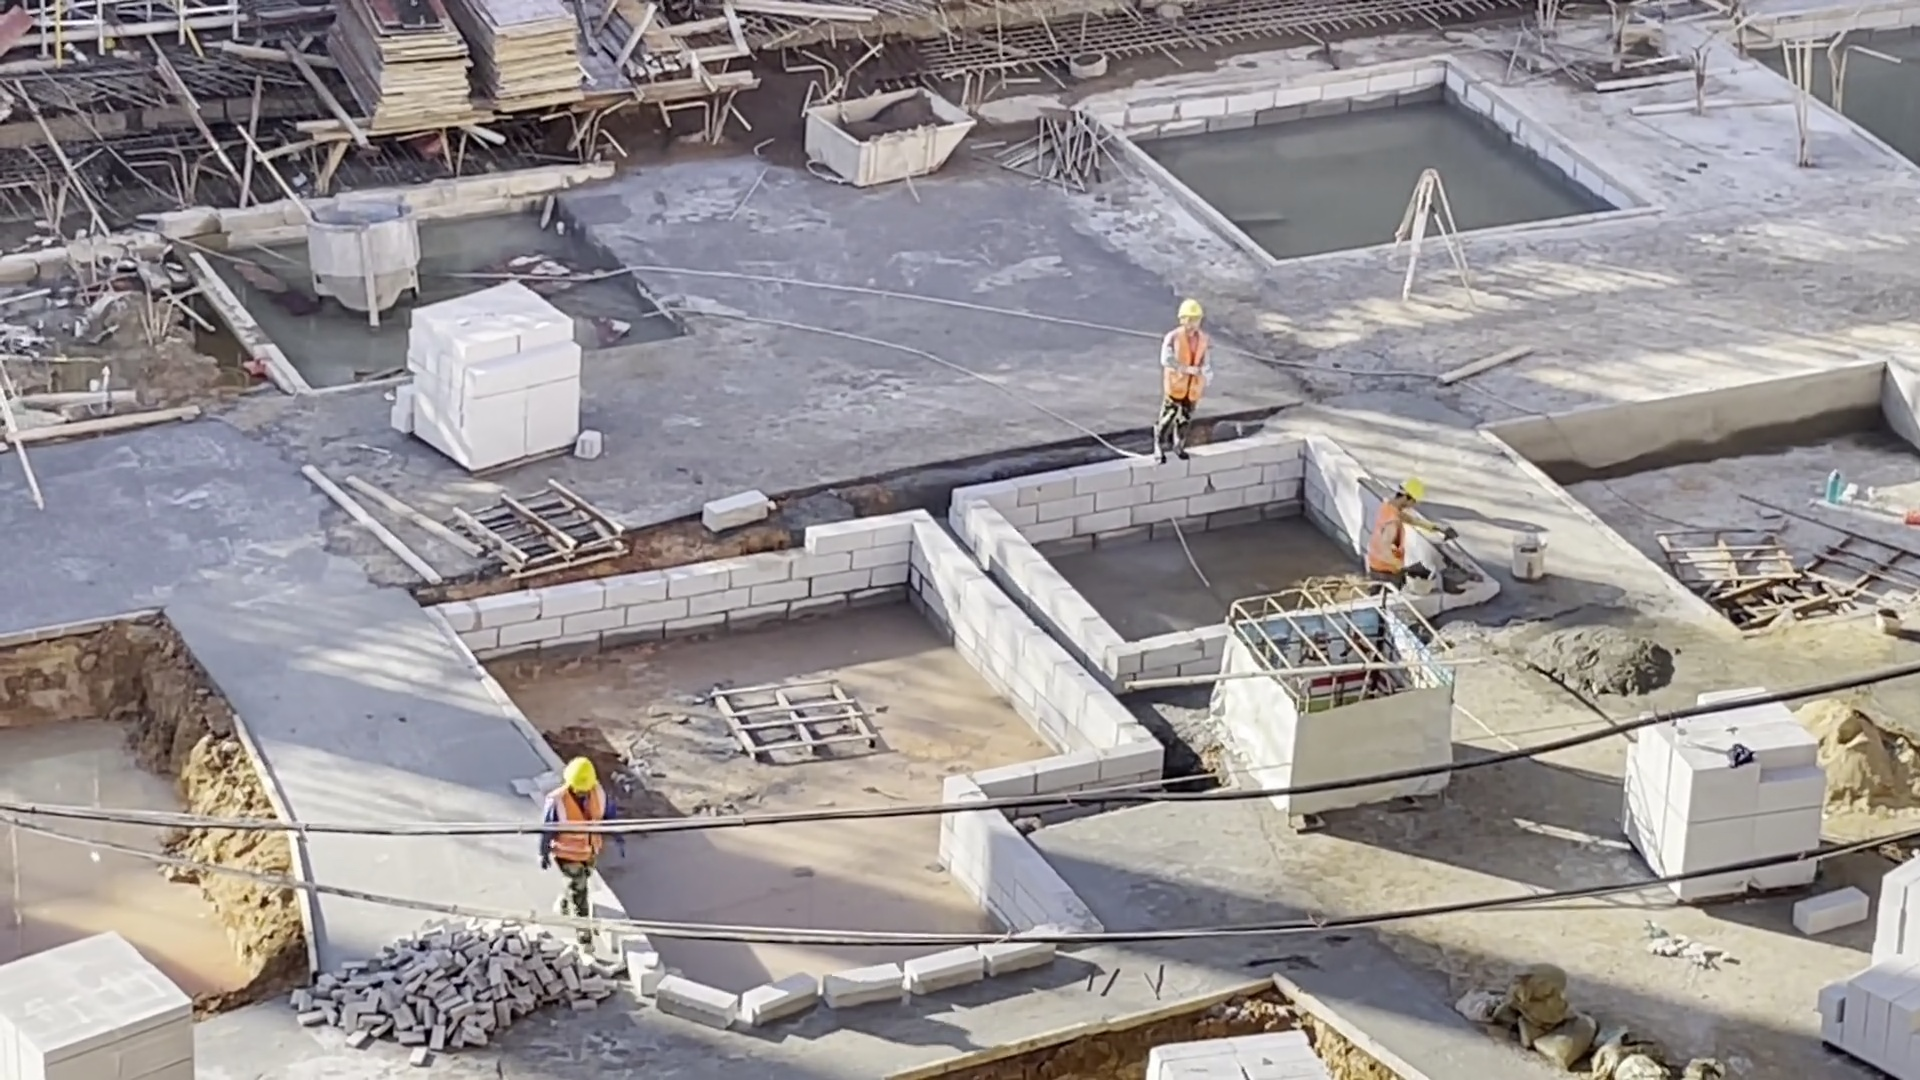board: (314, 5, 485, 138), (466, 2, 589, 112)
brick: (406, 268, 586, 469), (10, 932, 204, 1078), (1805, 856, 1920, 1074), (1617, 741, 1823, 849), (1147, 1030, 1329, 1080)
helmet: (556, 756, 600, 789), (1398, 476, 1426, 502), (1176, 298, 1204, 320)
hopper: (793, 89, 980, 185), (296, 194, 421, 327)
person: (1364, 475, 1458, 585), (1156, 298, 1209, 464), (535, 755, 622, 824)
vest: (1163, 326, 1208, 404), (1371, 502, 1409, 572), (548, 785, 609, 819)
